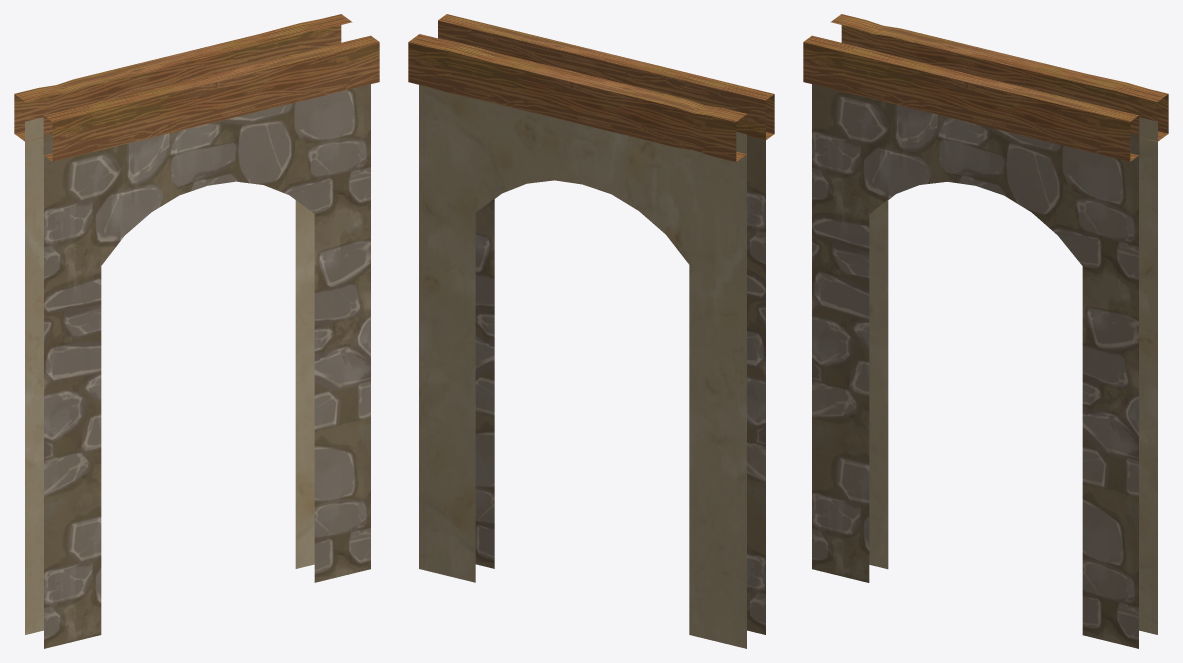
The model's file is Wall_UnevenBrick_Door_Round.glb.
3 views of the same model, side by side, from view 1: azimuth 30°, elevation 25°; view 2: azimuth 150°, elevation 25°; view 3: azimuth 330°, elevation 25° (orthographic).
Parts seen in each view (by area): view 1: Wall_UnevenBrick_Door_Round; view 2: Wall_UnevenBrick_Door_Round; view 3: Wall_UnevenBrick_Door_Round.
Part boxes in pixels (<box>): Wall_UnevenBrick_Door_Round: <box>14,14,379,648</box>; Wall_UnevenBrick_Door_Round: <box>408,14,774,648</box>; Wall_UnevenBrick_Door_Round: <box>803,14,1168,648</box>.
Size of the model in its own units: 2 by 3.12 by 0.4064.
Materials: 3 (3 with a texture image).
